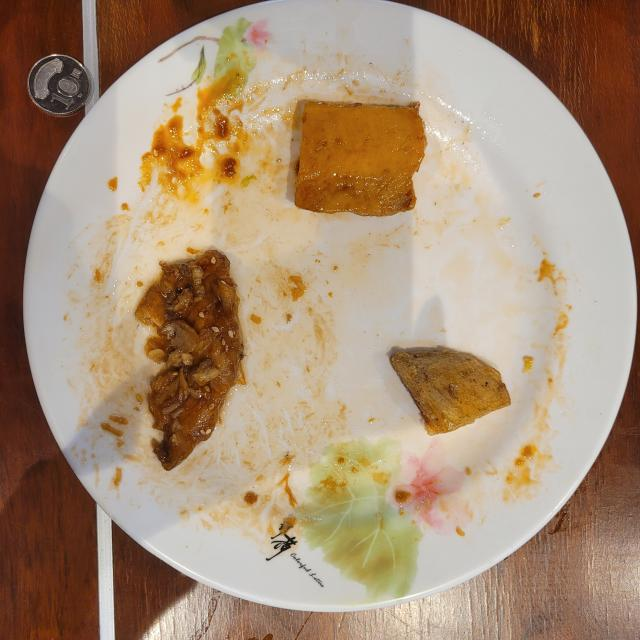Kabayaki sea bream fillet: (135, 250, 244, 470)
coin: (28, 55, 92, 116)
creamy tofu: (295, 101, 426, 216)
fried potato: (390, 350, 510, 435)
